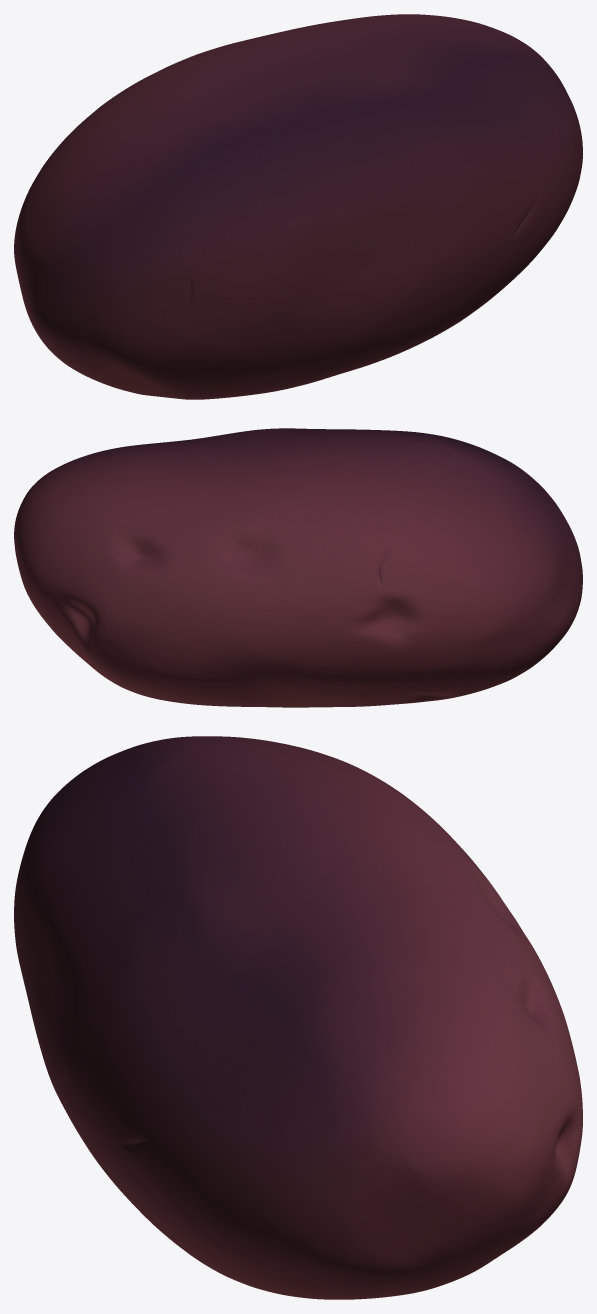
3 views of the same model, one above another, from view 1: azimuth 30°, elevation 25°; view 2: azimuth 150°, elevation 25°; view 3: azimuth 270°, elevation 25° (orthographic). The views are drawn at different scales.
Visible parts, largest first — view 1: 普格_2; view 2: 普格_2; view 3: 普格_2.
Part boxes in pixels (bbox=[...]): 普格_2: bbox=[14, 14, 582, 399]; 普格_2: bbox=[14, 428, 582, 707]; 普格_2: bbox=[14, 736, 582, 1299].
Size of the model in its own units: 188 by 93.75 by 124.
Materials: 1 (1 with a texture image).
